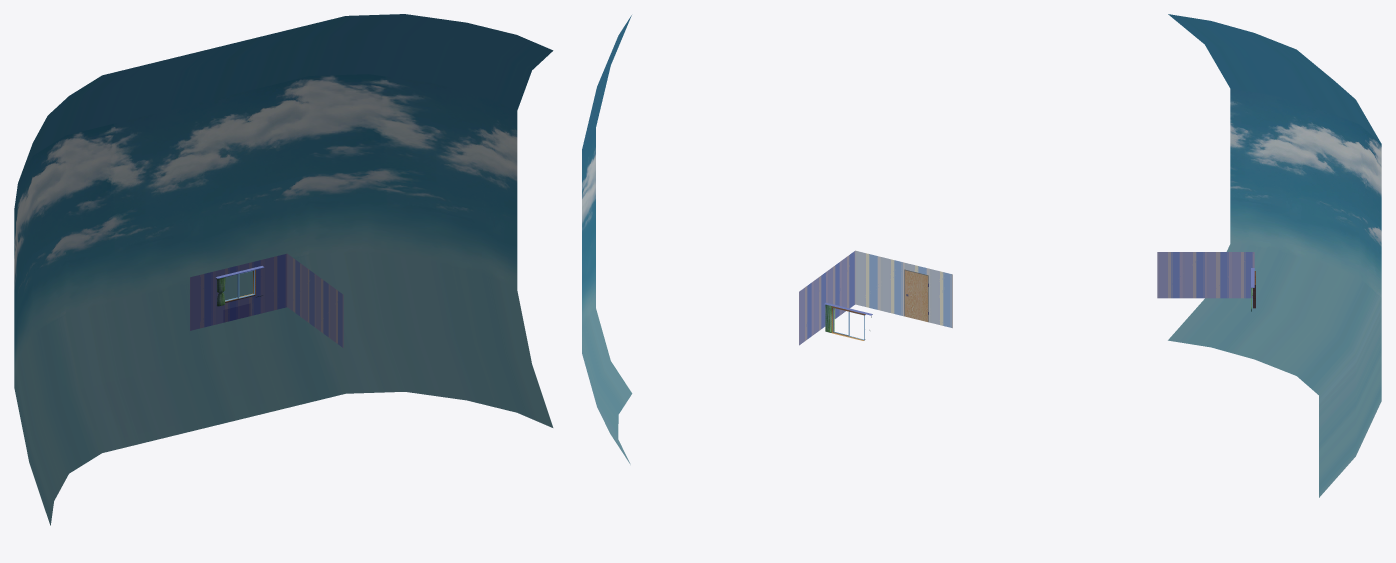
3 views of the same model, side by side, from view 1: azimuth 30°, elevation 25°; view 2: azimuth 150°, elevation 25°; view 3: azimuth 270°, elevation 25° (orthographic). The views are drawn at different scales.
Parts seen in each view (by area): view 1: Joint_0_Object_5, Joint_0_Object_6; view 2: Joint_0_Object_6, Joint_0_Object_5, Joint_0_Object_8; view 3: Joint_0_Object_5, Joint_0_Object_6.
Boxes of the visible parts, box(x1,y1,x2,y2) form: Joint_0_Object_5: box(14, 14, 553, 525); Joint_0_Object_6: box(190, 253, 343, 347); Joint_0_Object_6: box(799, 250, 952, 345); Joint_0_Object_5: box(582, 15, 632, 464); Joint_0_Object_8: box(904, 269, 928, 322); Joint_0_Object_5: box(1168, 14, 1381, 497); Joint_0_Object_6: box(1157, 252, 1254, 298).
Bounding box in the file's own units: 51572 × 37682 × 23428.
Materials: 9 (7 with a texture image).
